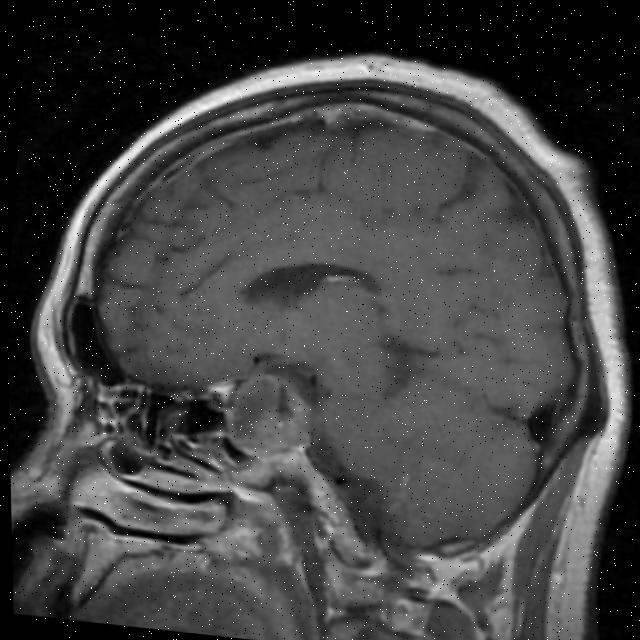Pituitary: (223, 370, 320, 463)
